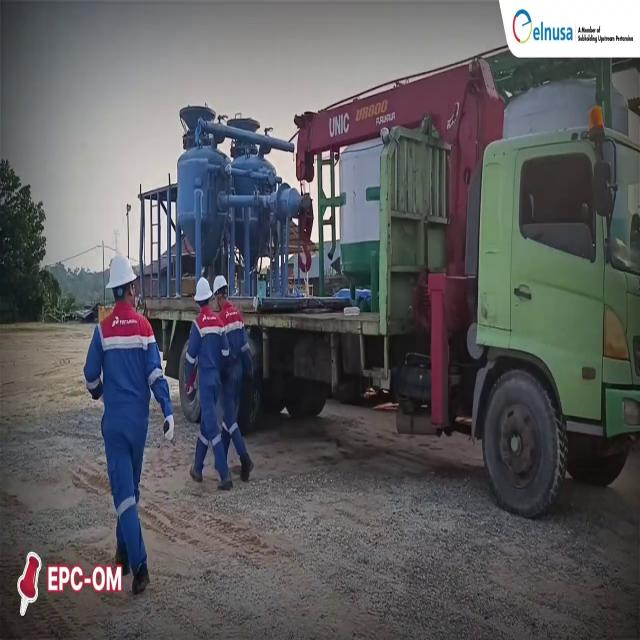Gloves: (161, 417, 175, 440)
Hardhat: (108, 257, 134, 290), (194, 279, 213, 303), (211, 275, 230, 299)
Overall Suit: (85, 306, 173, 550), (184, 309, 222, 468), (218, 301, 253, 453)
Safety Boots: (131, 559, 149, 603), (114, 546, 129, 574), (190, 459, 203, 482), (218, 475, 234, 493), (239, 461, 254, 478)
